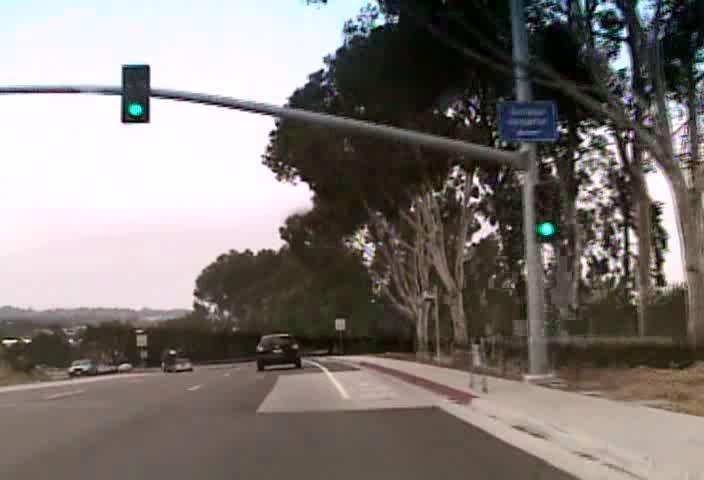speedLimitUrdbl: (334, 318, 345, 330)
